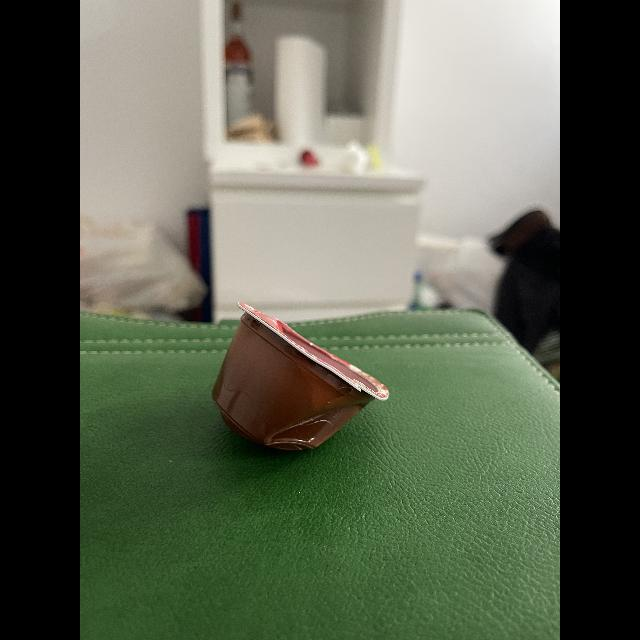damaged_capsule: (206, 298, 398, 468)
